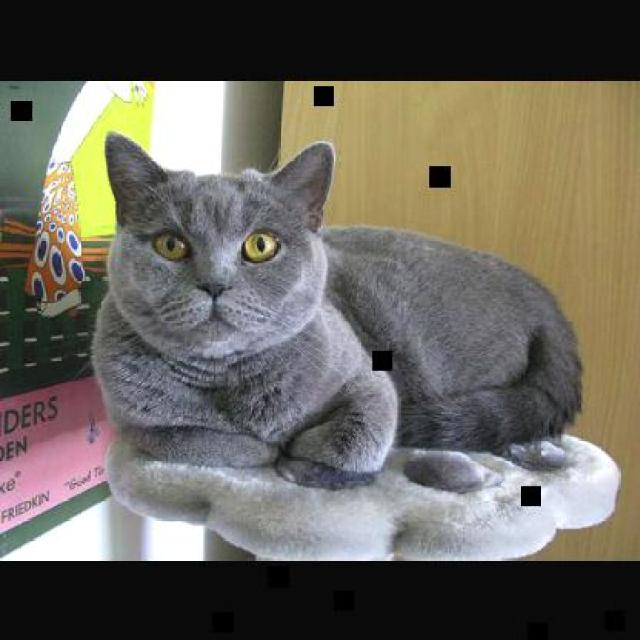unauthorized: (88, 130, 583, 492)
